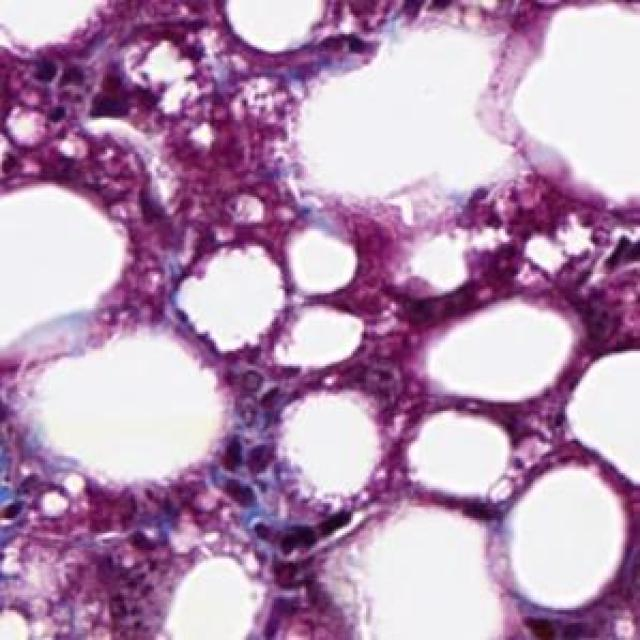inflammation: (242, 499, 364, 576), (210, 426, 278, 520)
